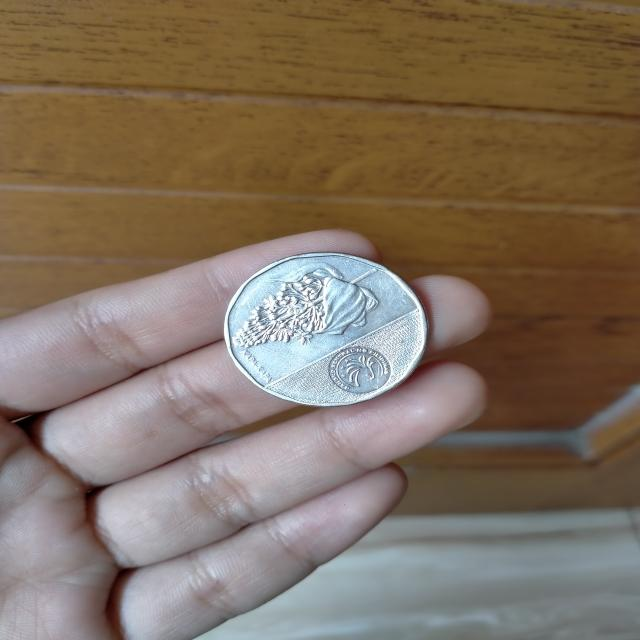10_New_Back: (233, 260, 390, 356)
